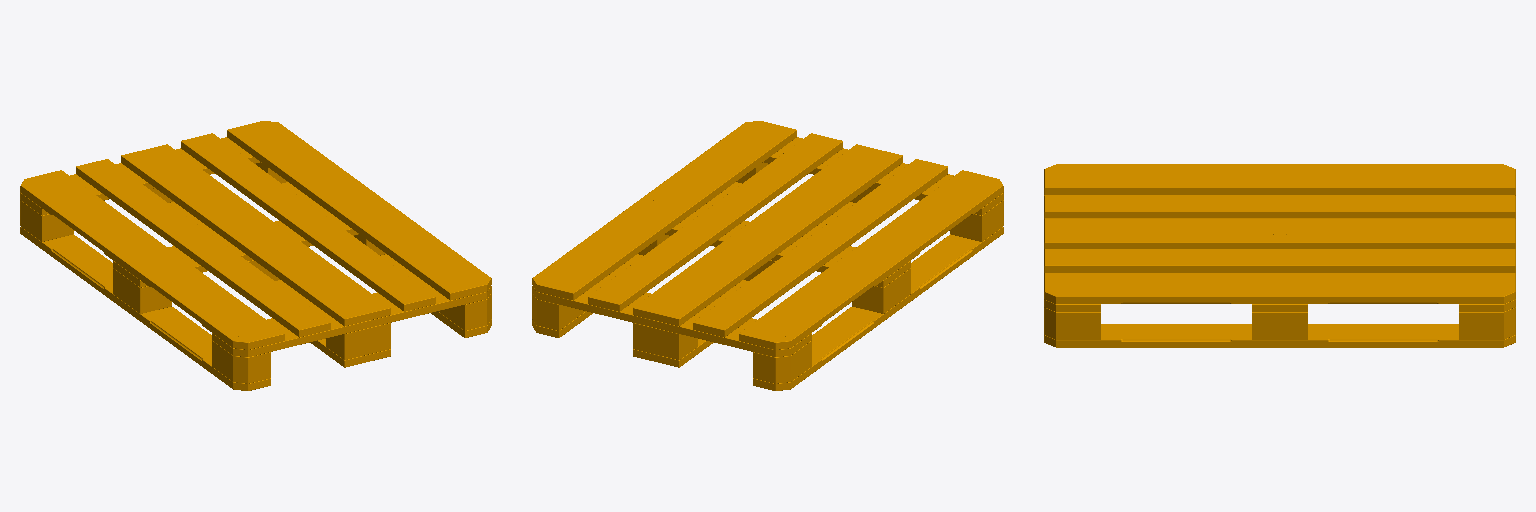
URDF robot description (sema_pallet):
<?xml version="1.0"?>
<robot name="sema_pallet">
    <link name="sema_pallet_link">
      <visual name="sema_pallet_visual">
        <origin xyz="-0.08 0 -0.085" rpy="0 0 0"/>
        <geometry>
          <mesh filename="package://sema_models/model/sema_pallet/mesh/sema_pallet.dae"/>
        </geometry>
      </visual>
      <collision name="sema_pallet_collision">
        <geometry>
          <box size="0.8 1.2 0.144"/>
        </geometry>
      </collision>
      <inertial>
        <mass value="13.44" />
        <inertia  ixx="0.73875" ixy="0.0"  ixz="0.0"  iyy="1.6347"  iyz="0.0"  izz="2.3296" />
      </inertial>
    </link>
</robot>

--- Facts derived from the render (not from the file) ---
The picture shows the robot from 3 angles, left to right: view 1: azimuth 30°, elevation 25°; view 2: azimuth 150°, elevation 25°; view 3: azimuth 270°, elevation 25°; orthographic projection.
Robot: sema_pallet — 1 links, 0 joints (none); root link sema_pallet_link; default pose: every joint at zero.
Links seen in each view (by area): view 1: sema_pallet_link; view 2: sema_pallet_link; view 3: sema_pallet_link.
Boxes of the visible links, <box> form: sema_pallet_link: <box>20,121,491,390</box>; sema_pallet_link: <box>532,121,1003,390</box>; sema_pallet_link: <box>1044,164,1515,347</box>.
Bounding box of the posed robot: 0.8 × 1.2 × 0.1442 m (x, y, z).
1 mesh visuals loaded from 1 distinct referenced files (1 Collada DAE).